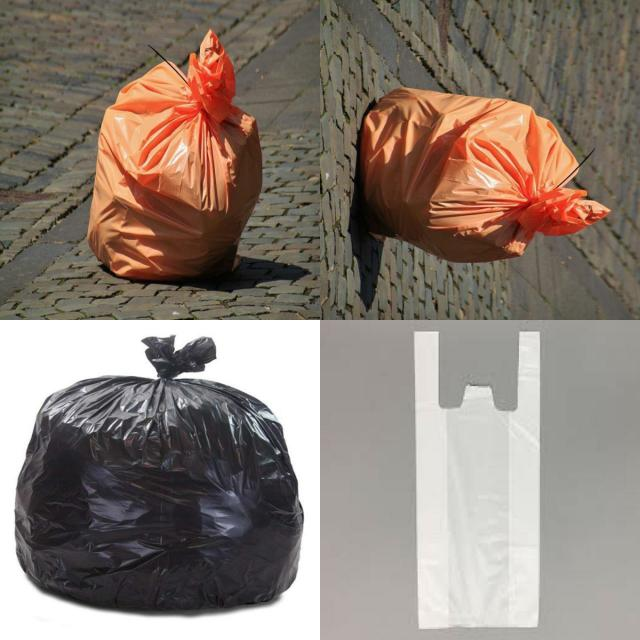Single-layer Plastic: (15, 336, 304, 610), (359, 88, 610, 262), (88, 30, 262, 280), (415, 331, 540, 629)
